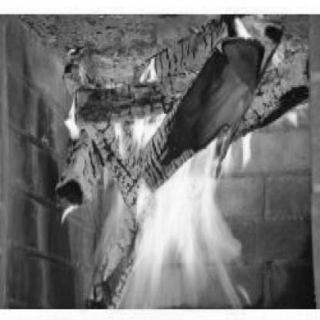Fire: (60, 57, 311, 309)
